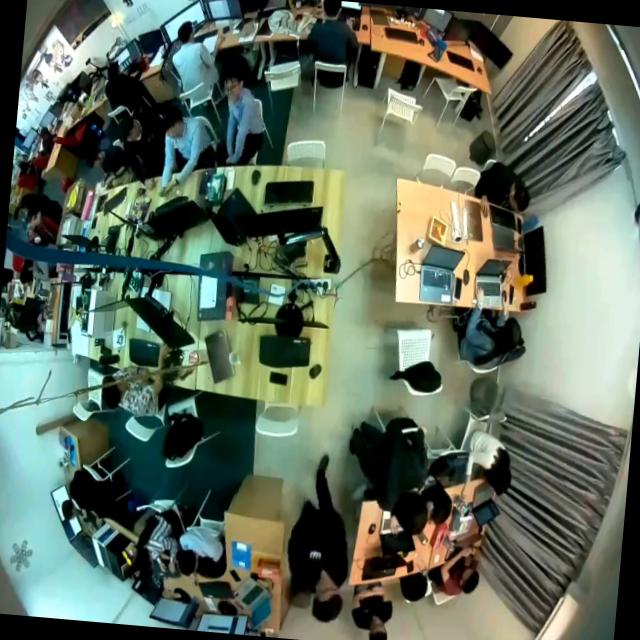employee_tag: (307, 550, 322, 562)
